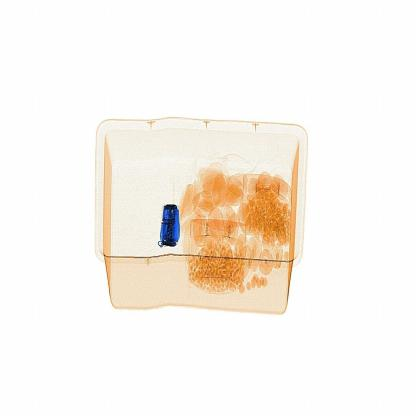scissors: (157, 196, 191, 257)
